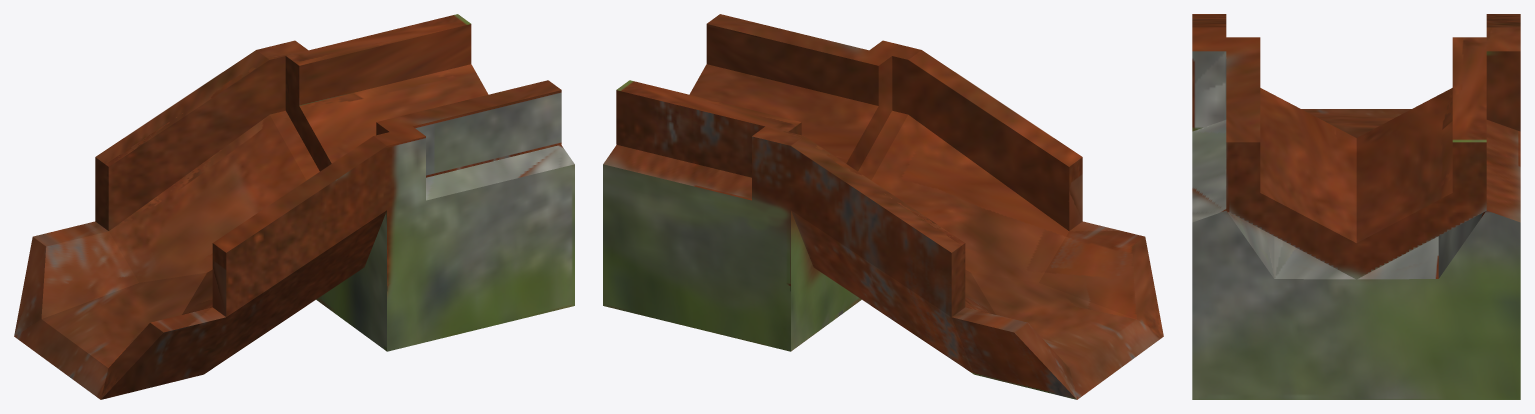
File: obst tubo derecha tobogan .fbx
3 views of the same model, side by side, from view 1: azimuth 30°, elevation 25°; view 2: azimuth 150°, elevation 25°; view 3: azimuth 270°, elevation 25° (orthographic). The views are drawn at different scales.
Parts seen in each view (by area): view 1: tuboDerecha_tobogan; view 2: tuboDerecha_tobogan; view 3: tuboDerecha_tobogan.
Part boxes in pixels (left/top/right/bottom): tuboDerecha_tobogan: left=14, top=14, right=574, bottom=399; tuboDerecha_tobogan: left=603, top=14, right=1163, bottom=399; tuboDerecha_tobogan: left=1192, top=14, right=1520, bottom=399.
Size of the model in its own units: 22.22 by 9.66 by 11.14.
Materials: 1 (1 with a texture image).
